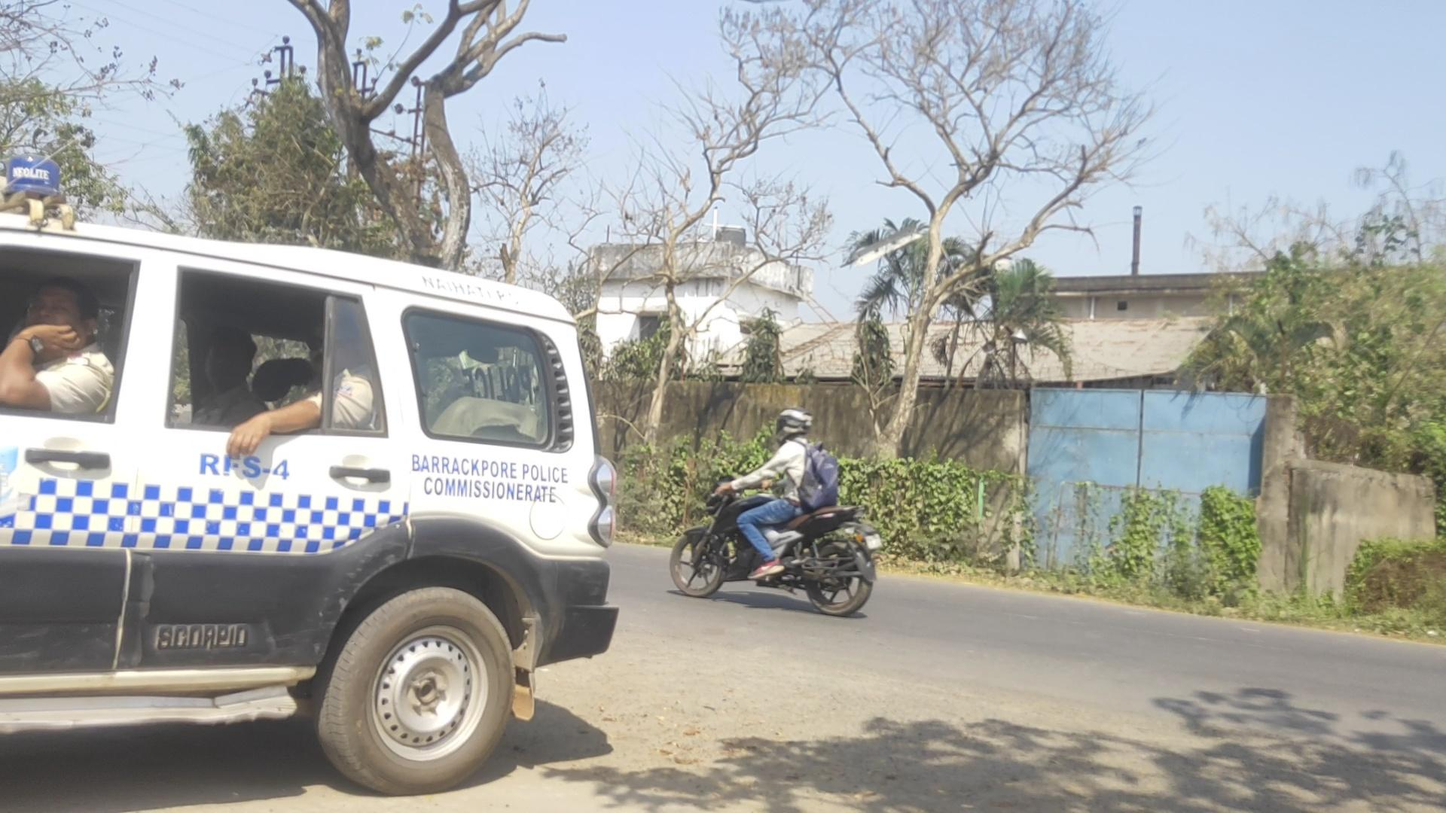bike: (669, 406, 884, 617)
car: (1, 152, 621, 796)
